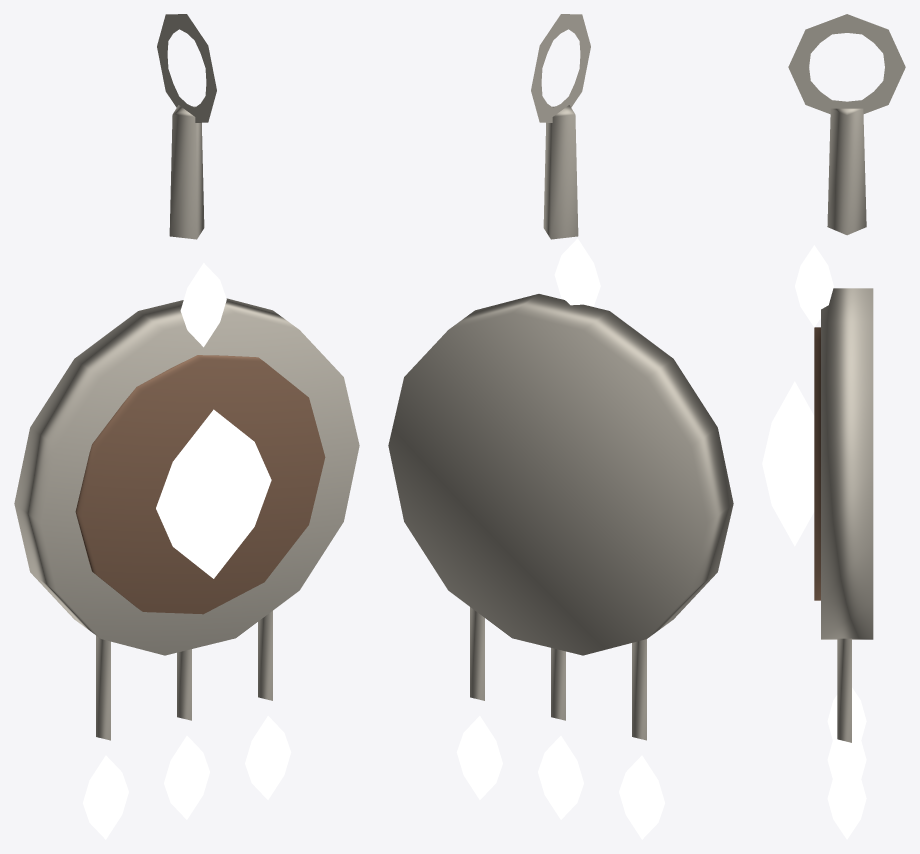
The model's file is charm_unique.glb.
3 renders of one model, left to right at view 1: azimuth 30°, elevation 25°; view 2: azimuth 150°, elevation 25°; view 3: azimuth 270°, elevation 25°, orthographic. The views are drawn at different scales.
Visible parts, largest first — view 1: charm_unique; view 2: charm_unique; view 3: charm_unique.
Part boxes in pixels (x1=…): charm_unique: x1=14, y1=14, x2=359, y2=839; charm_unique: x1=388, y1=14, x2=733, y2=839; charm_unique: x1=762, y1=14, x2=905, y2=839.
Size of the model in its own units: 0.11 by 0.266 by 0.044.
